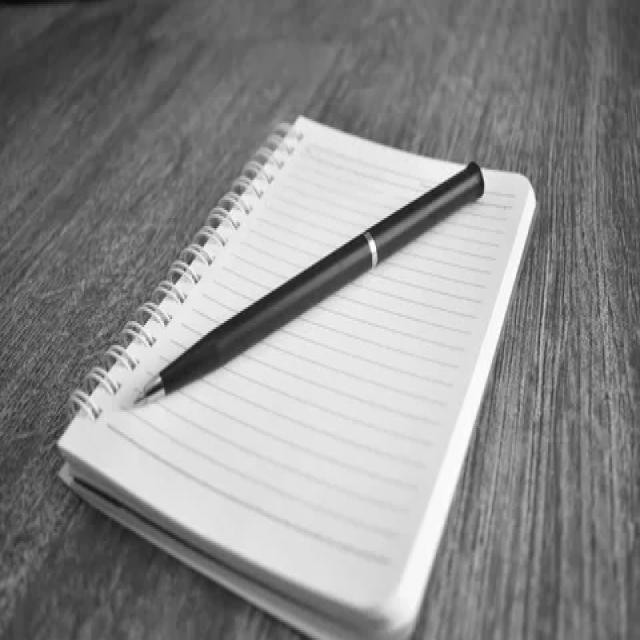pencil: (114, 158, 531, 417)
